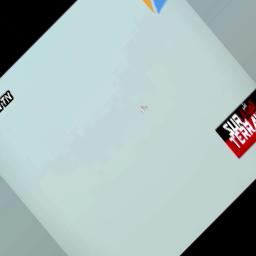Airplane: (136, 103, 150, 114)
